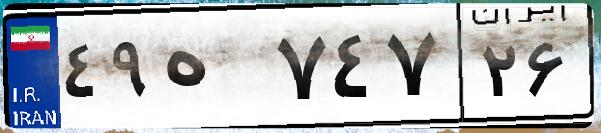2: (475, 38, 525, 113)
4: (330, 28, 385, 110), (57, 26, 110, 100)
6: (525, 38, 570, 115)
7: (270, 28, 330, 110), (385, 28, 445, 110)
9: (110, 28, 158, 98)
ه: (158, 20, 270, 120)
